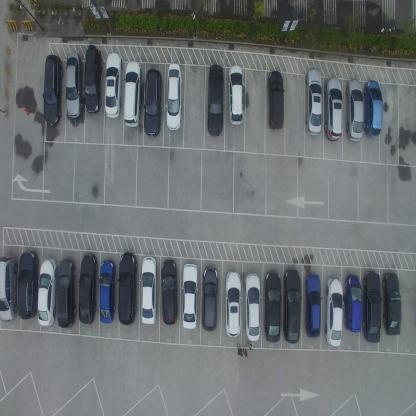car: (16, 250, 40, 320), (205, 64, 225, 138), (117, 252, 137, 326), (78, 251, 98, 324), (282, 268, 301, 344), (43, 54, 63, 126), (37, 256, 57, 328), (143, 68, 163, 139), (381, 270, 402, 337), (84, 44, 104, 114), (56, 258, 76, 328), (362, 271, 381, 343), (64, 50, 84, 118), (324, 277, 343, 348), (304, 66, 323, 136), (263, 272, 281, 344), (159, 258, 178, 326), (324, 75, 343, 143), (344, 77, 364, 141), (123, 61, 142, 128), (165, 62, 183, 132), (139, 256, 157, 326), (104, 52, 123, 118), (0, 253, 18, 322), (201, 266, 219, 333), (224, 269, 241, 338), (98, 259, 116, 323), (244, 272, 260, 344), (181, 263, 198, 330), (266, 68, 284, 131), (304, 272, 321, 338), (364, 79, 382, 139), (344, 272, 362, 332), (227, 63, 244, 125)
